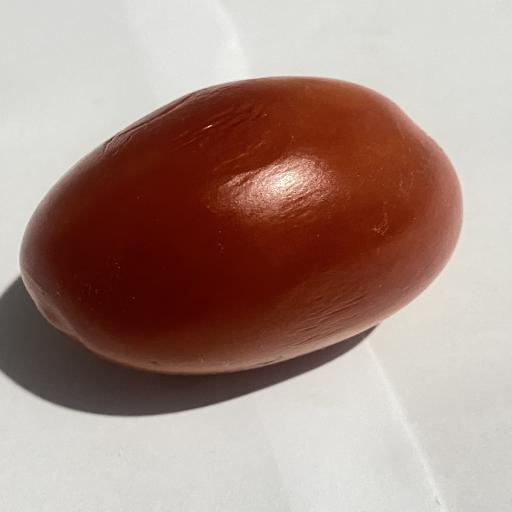overipe: (20, 77, 461, 374)
